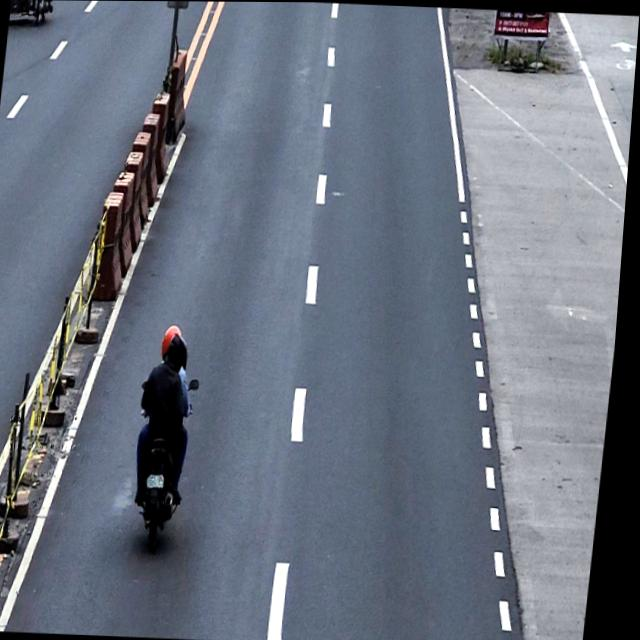License-Plate: (153, 472, 173, 489)
Motorcycle: (131, 375, 206, 554)
